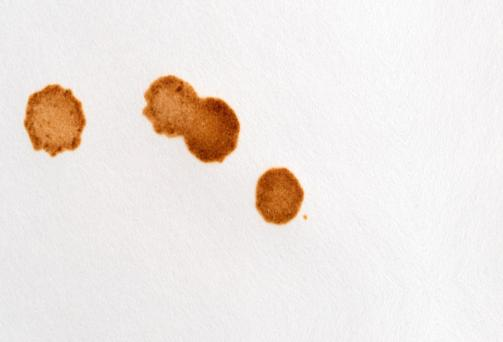stain: (143, 72, 244, 169), (21, 82, 90, 161), (254, 168, 310, 230)
